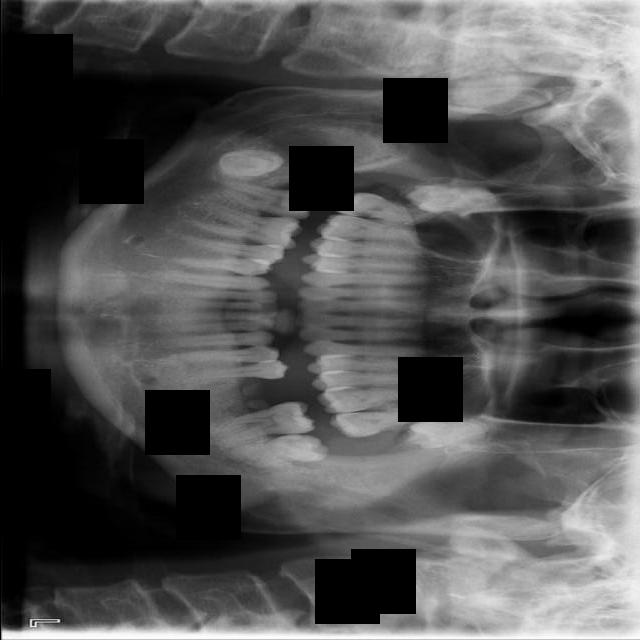3M ESPE Implant: (407, 184, 495, 214)
52: (280, 409, 297, 423), (352, 210, 374, 219)
73: (46, 586, 54, 592)
BioHorizons Implant: (328, 408, 451, 439)
BioLife Implant: (403, 407, 497, 454)
Biomet 3i Implant: (231, 430, 329, 471)
Blue Sky Bio Implant: (207, 398, 317, 450)
Caries: (332, 189, 454, 228)
Implant: (222, 181, 323, 223)
Keystone Dental Implant: (218, 148, 283, 177)
